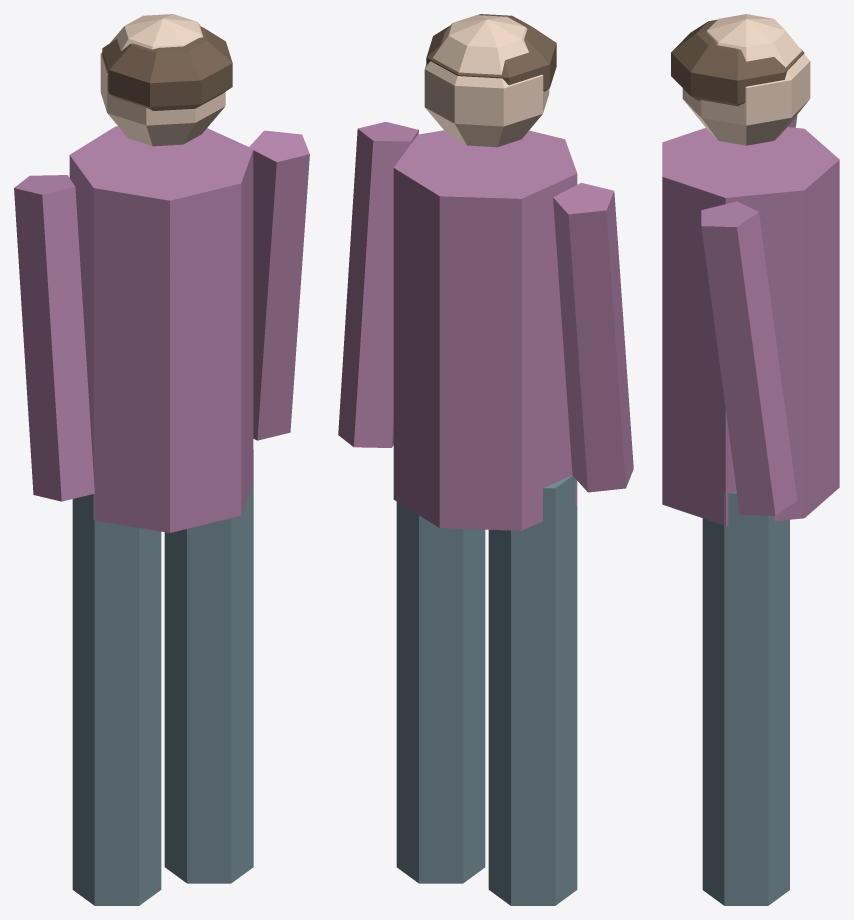
Rendered from ped_6.glb.
3 views of the same model, side by side, from view 1: azimuth 30°, elevation 25°; view 2: azimuth 150°, elevation 25°; view 3: azimuth 270°, elevation 25° (orthographic).
Visible parts, largest first — view 1: ped_6; view 2: ped_6; view 3: ped_6.
Boxes of the visible parts, <box> form: ped_6: <box>14,14,309,905</box>; ped_6: <box>338,14,633,905</box>; ped_6: <box>662,14,839,905</box>.
Size of the model in its own units: 0.5246 by 1.6 by 0.3042.
